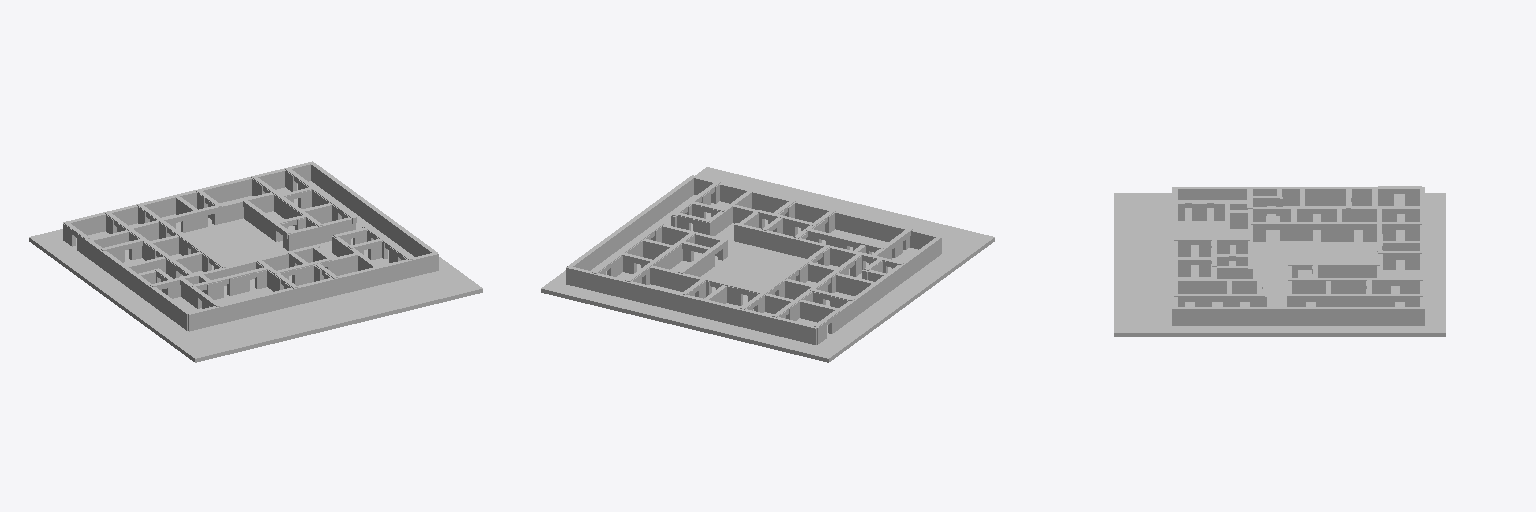
The model's file is CasaMockupDartsch.obj.
3 views of the same model, side by side, from view 1: azimuth 30°, elevation 25°; view 2: azimuth 150°, elevation 25°; view 3: azimuth 270°, elevation 25° (orthographic).
Visible parts, largest first — view 1: Plane, Cube.021_Cube.022, Cube.034_Cube.035, Cube.017_Cube.018, Cube.022_Cube.023, Cube_Cube.001, Cube.053_Cube.054, Cube.051_Cube.052, Cube.012_Cube.013; view 2: Plane, Cube.034_Cube.035, Cube.021_Cube.022, Cube.017_Cube.018, Cube.022_Cube.023, Cube_Cube.001, Cube.051_Cube.052, Cube.012_Cube.013, Cube.053_Cube.054, Cube.042_Cube.043, Cube.093_Cube.105, Cube.046_Cube.047; view 3: Plane, Cube.017_Cube.018, Cube.022_Cube.023, Cube.082_Cube.091, Cube.012_Cube.013, Cube.085_Cube.097, Cube.052_Cube.092, Cube.037_Cube.084, Cube.021_Cube.022, Cube.076_Cube.077, Cube.075_Cube.076, Cube.011_Cube.083 (+2 smaller).
Boxes of the visible parts, x1=… form: Plane: x1=29, y1=181, x2=482, y2=362; Cube.021_Cube.022: x1=187, y1=252, x2=438, y2=331; Cube.034_Cube.035: x1=63, y1=161, x2=314, y2=235; Cube.017_Cube.018: x1=311, y1=163, x2=437, y2=256; Cube.022_Cube.023: x1=77, y1=234, x2=190, y2=330; Cube_Cube.001: x1=191, y1=244, x2=319, y2=285; Cube.053_Cube.054: x1=291, y1=217, x2=354, y2=249; Cube.051_Cube.052: x1=212, y1=192, x2=273, y2=224; Cube.012_Cube.013: x1=332, y1=236, x2=378, y2=270; Plane: x1=541, y1=167, x2=994, y2=362; Cube.034_Cube.035: x1=566, y1=267, x2=817, y2=344; Cube.021_Cube.022: x1=692, y1=175, x2=941, y2=249; Cube.017_Cube.018: x1=567, y1=176, x2=694, y2=270; Cube.022_Cube.023: x1=828, y1=236, x2=941, y2=333; Cube_Cube.001: x1=734, y1=223, x2=865, y2=269; Cube.051_Cube.052: x1=650, y1=266, x2=711, y2=296; Cube.012_Cube.013: x1=706, y1=191, x2=752, y2=235; Cube.053_Cube.054: x1=662, y1=224, x2=721, y2=256; Cube.042_Cube.043: x1=836, y1=273, x2=874, y2=295; Cube.093_Cube.105: x1=806, y1=228, x2=884, y2=252; Cube.046_Cube.047: x1=800, y1=300, x2=838, y2=322; Plane: x1=1114, y1=193, x2=1445, y2=336; Cube.017_Cube.018: x1=1175, y1=307, x2=1421, y2=325; Cube.022_Cube.023: x1=1175, y1=187, x2=1393, y2=205; Cube.082_Cube.091: x1=1251, y1=222, x2=1421, y2=229; Cube.012_Cube.013: x1=1175, y1=279, x2=1262, y2=293; Cube.085_Cube.097: x1=1287, y1=294, x2=1422, y2=301; Cube.052_Cube.092: x1=1253, y1=207, x2=1421, y2=213; Cube.037_Cube.084: x1=1288, y1=278, x2=1422, y2=285; Cube.021_Cube.022: x1=1172, y1=187, x2=1177, y2=325; Cube.076_Cube.077: x1=1318, y1=266, x2=1376, y2=277; Cube.075_Cube.076: x1=1292, y1=286, x2=1390, y2=293; Cube.011_Cube.083: x1=1174, y1=294, x2=1264, y2=301.
Size of the model in its own units: 360 by 25.97 by 360.